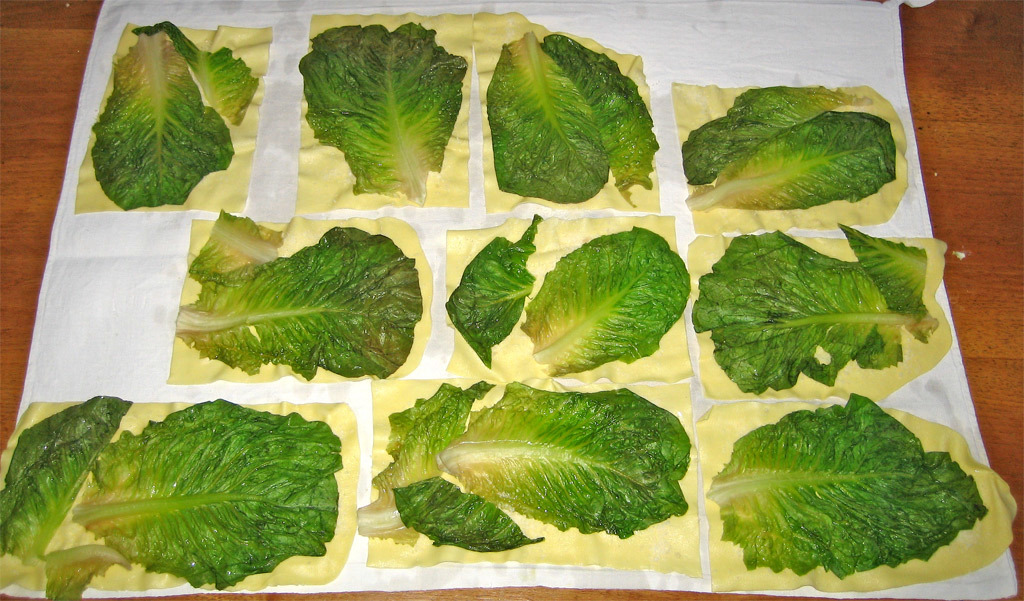Cabbage: (0, 20, 988, 601)
